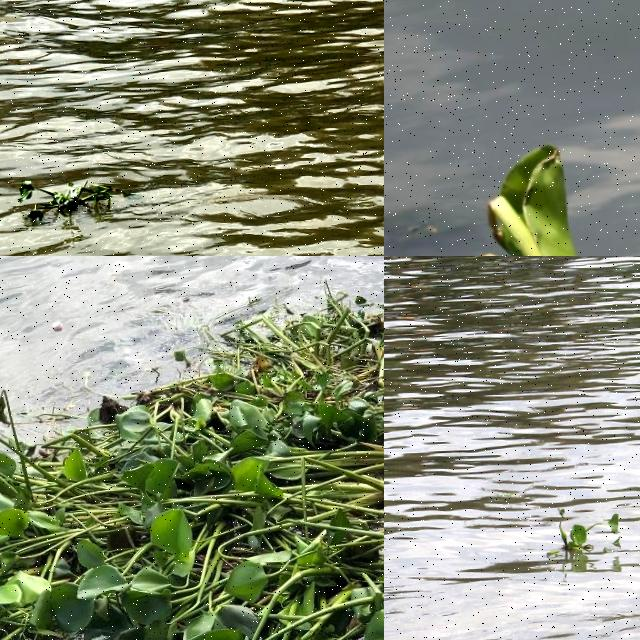water-hyacinth: (1, 294, 385, 640), (485, 142, 579, 260), (15, 169, 125, 225), (539, 496, 626, 563)
